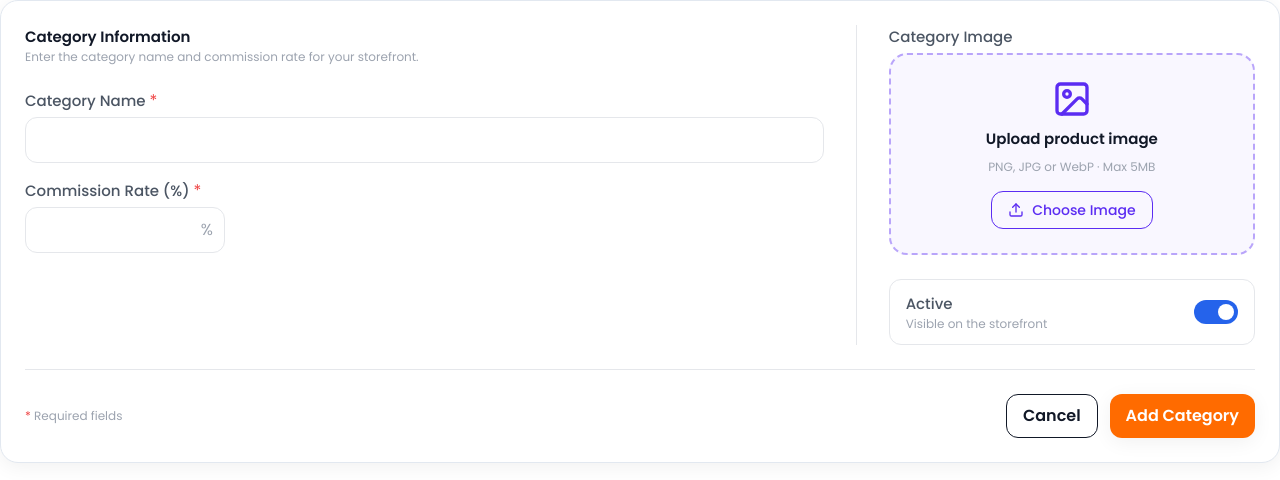
CategoryForm › rejects a commission rate outside 0-100
The width and height of the screenshot is (1280, 480).
Type "Electronics" into the field labelled "Category Name" at (424, 140), box [25,117,824,163]
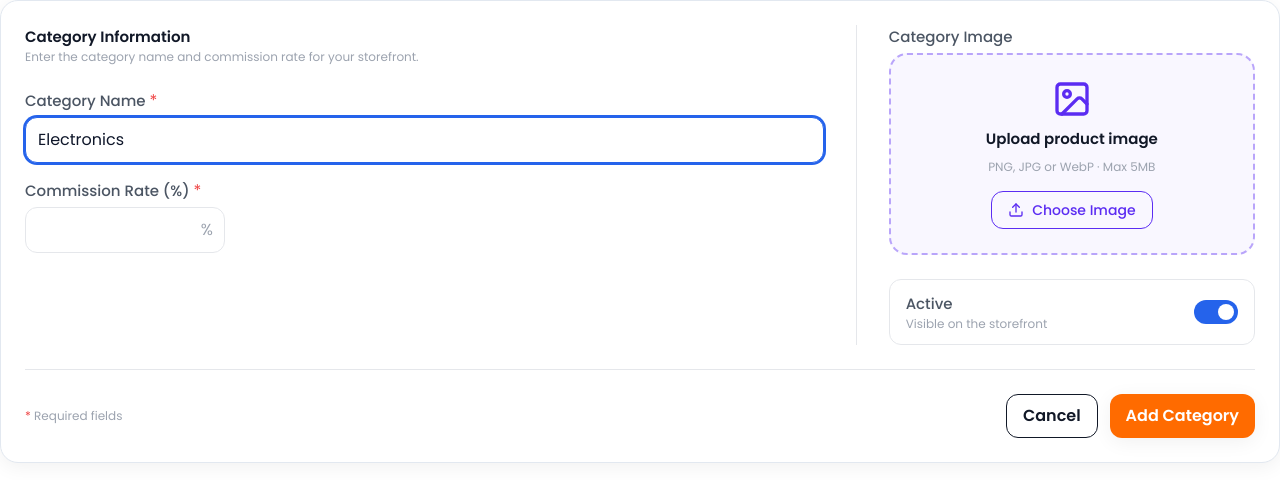
Type "150" into the number field labelled "Commission Rate (%)" at (125, 230), box [25,207,225,253]
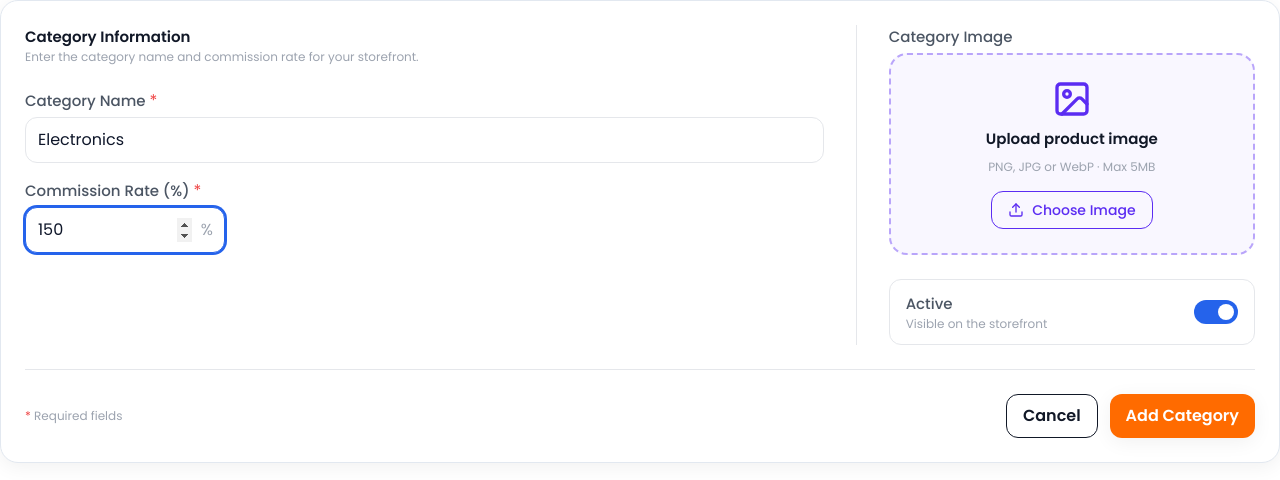
Click the button "Add Category" at (1182, 416), box [1110,394,1255,438]
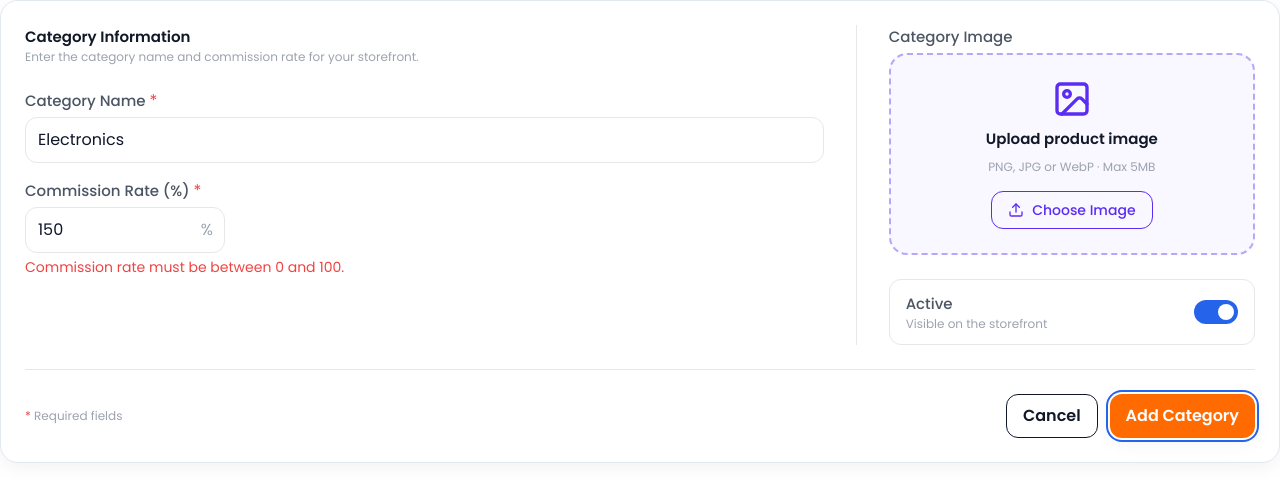
expect the text "Commission rate must be between 0 and 100." is shown: met, box [25,257,344,277]
